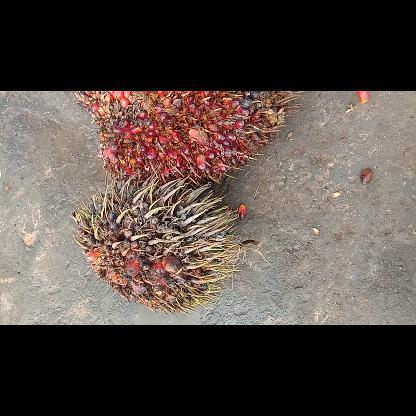TBS abnormal: (71, 178, 245, 312)
TBS masak: (71, 90, 295, 184)
